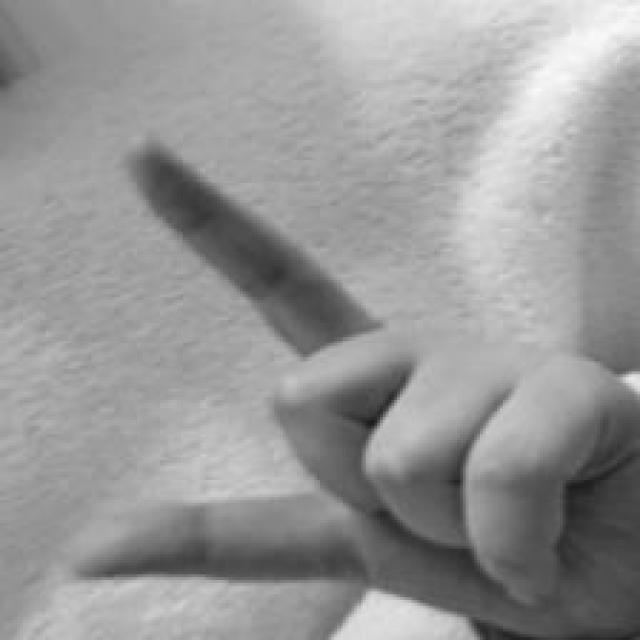L: (70, 120, 640, 640)
